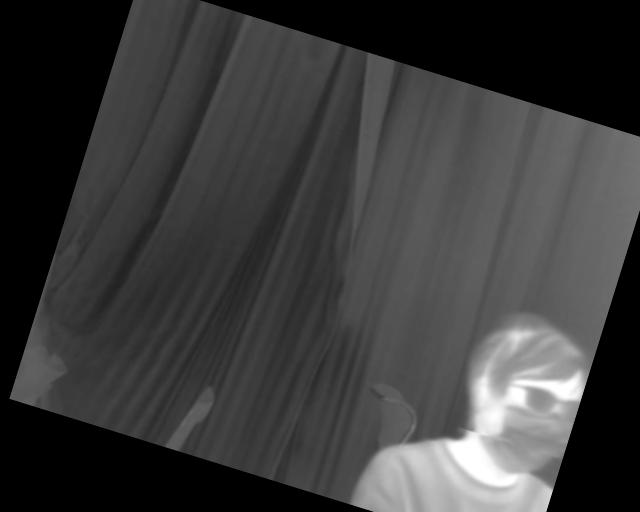face: (440, 302, 597, 486)
